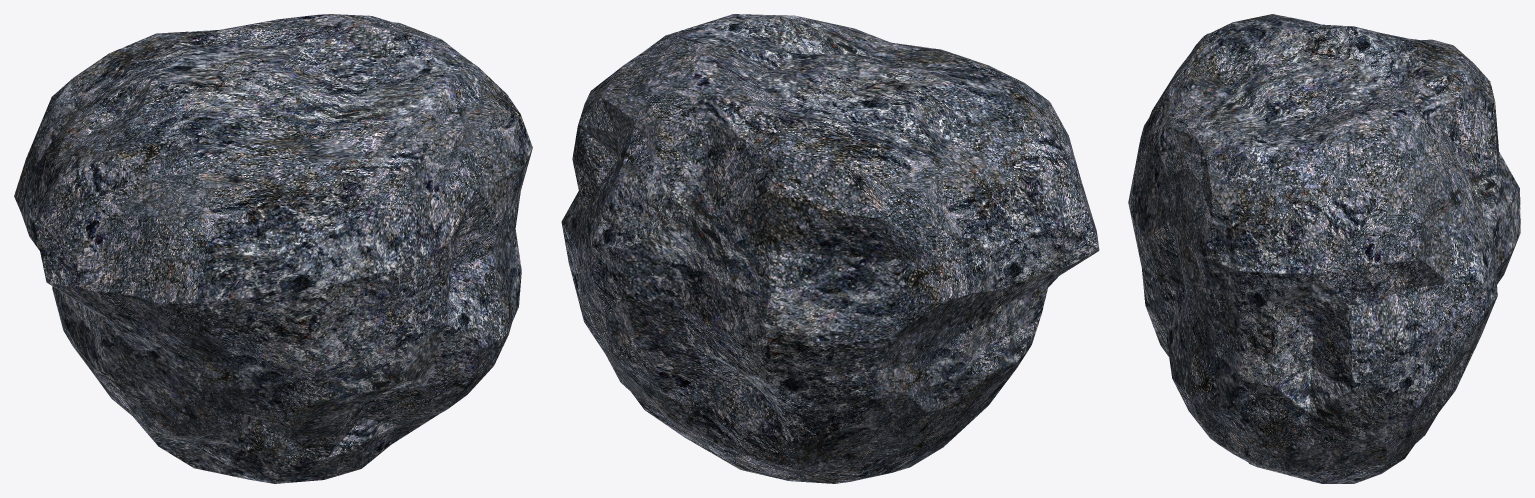
Rendered from asteroid_iron_medium_s01_l0.fbx.
3 renders of one model, left to right at view 1: azimuth 30°, elevation 25°; view 2: azimuth 150°, elevation 25°; view 3: azimuth 270°, elevation 25°, orthographic. The views are drawn at different scales.
Parts seen in each view (by area): view 1: mesh_node; view 2: mesh_node; view 3: mesh_node.
Part boxes in pixels (x1=…): mesh_node: x1=14, y1=14, x2=532, y2=483; mesh_node: x1=561, y1=14, x2=1099, y2=483; mesh_node: x1=1128, y1=14, x2=1520, y2=483.
Size of the model in its own units: 68.99 by 55.88 by 51.41.
